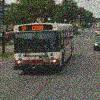buses: (11, 22, 75, 72)
